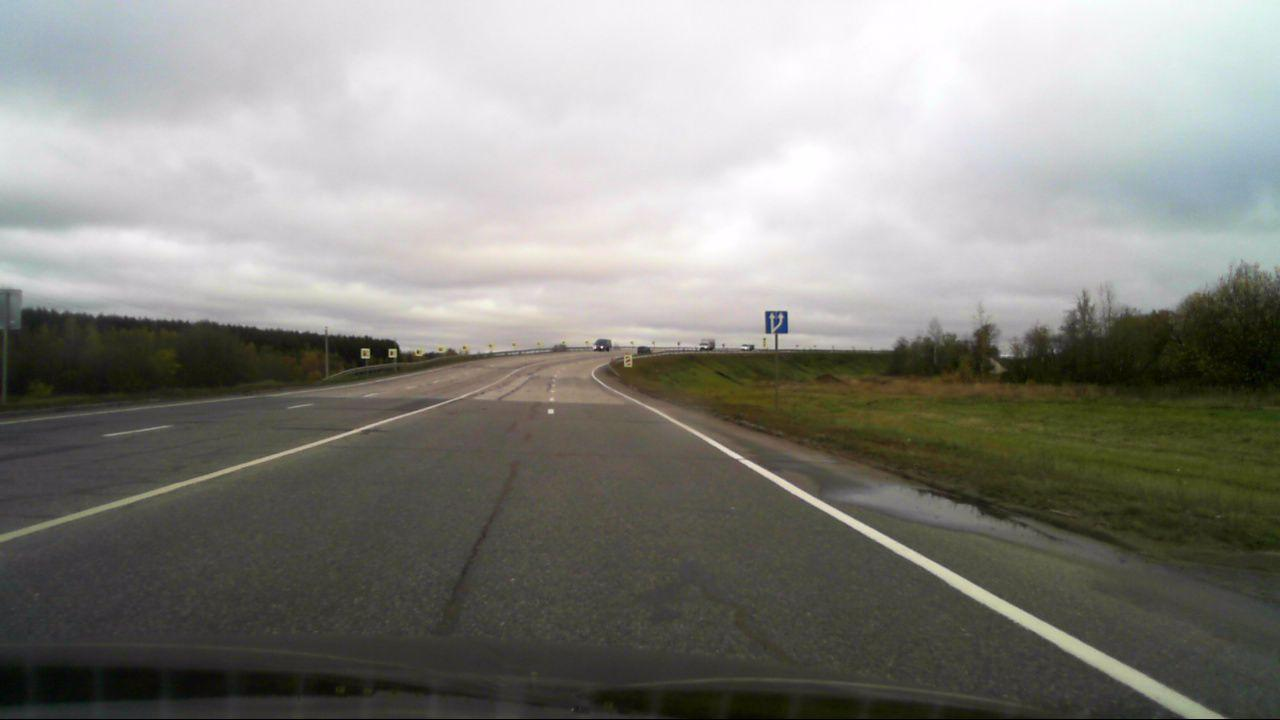5_15_3: (765, 310, 788, 333)
